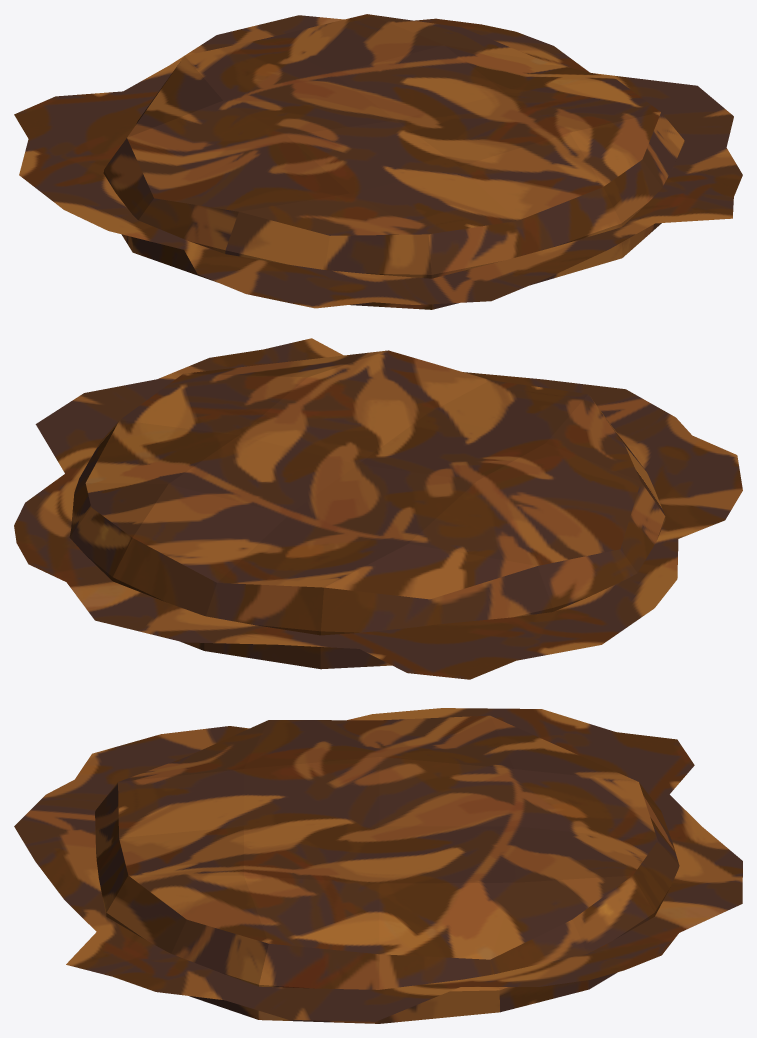
Rendered from 1Bush_small.fbx.
3 renders of one model, top to bottom at view 1: azimuth 30°, elevation 25°; view 2: azimuth 150°, elevation 25°; view 3: azimuth 270°, elevation 25°, orthographic. The views are drawn at different scales.
Parts seen in each view (by area): view 1: Cube; view 2: Cube; view 3: Cube.
Boxes of the visible parts, x1,y1,x2,y2 form: Cube: (14,14,742,309); Cube: (14,338,742,679); Cube: (14,708,742,1023).
Size of the model in its own units: 4.28 by 0.5513 by 4.2.
